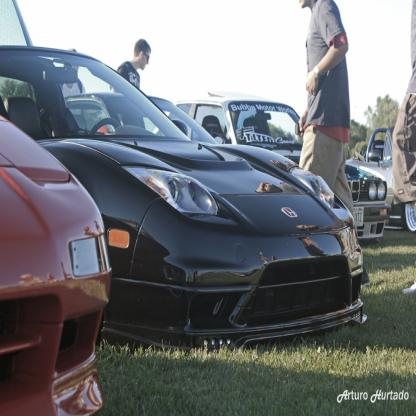Car: (1, 43, 416, 416)
